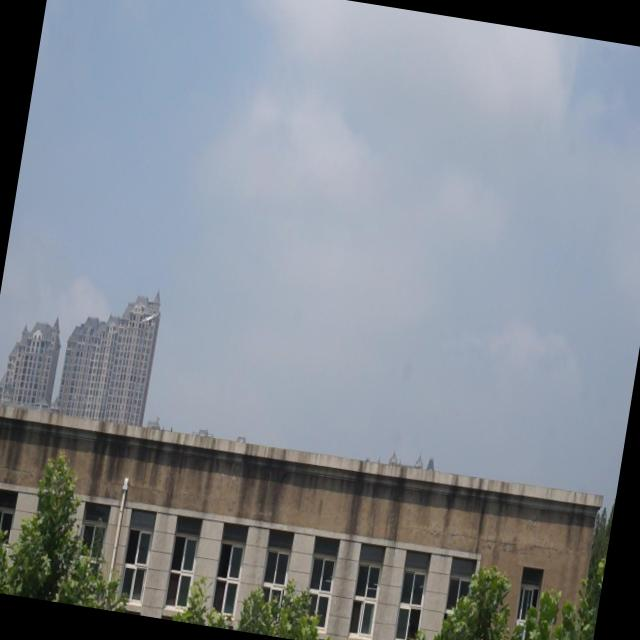drone: (139, 308, 160, 336)
